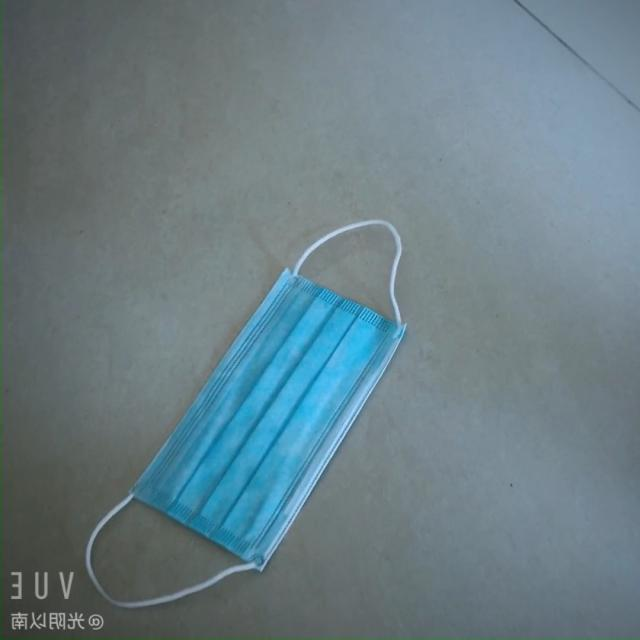face mask: (108, 260, 426, 582)
